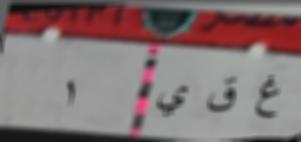1: (56, 75, 90, 109)
ghayn: (249, 70, 284, 121)
qaaf: (204, 72, 242, 116)
yaa: (151, 80, 194, 119)
